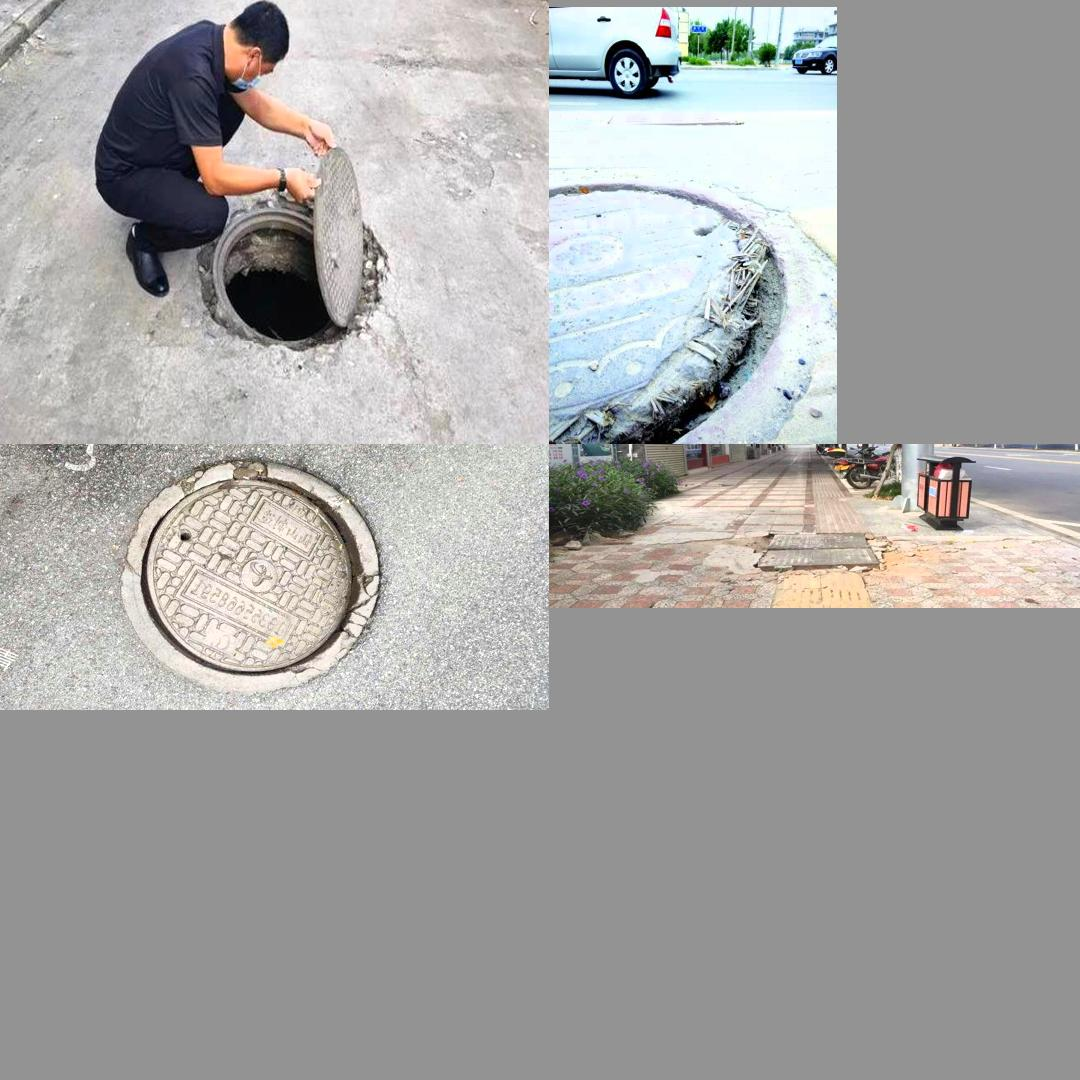circle: (99, 454, 426, 699), (553, 169, 820, 435), (161, 162, 404, 371), (732, 522, 915, 589)
